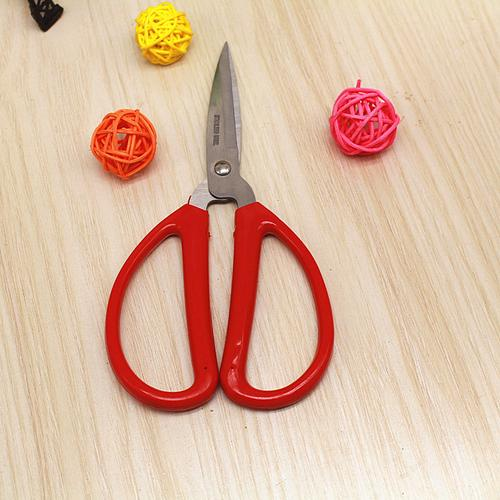scissor: (104, 43, 337, 415)
